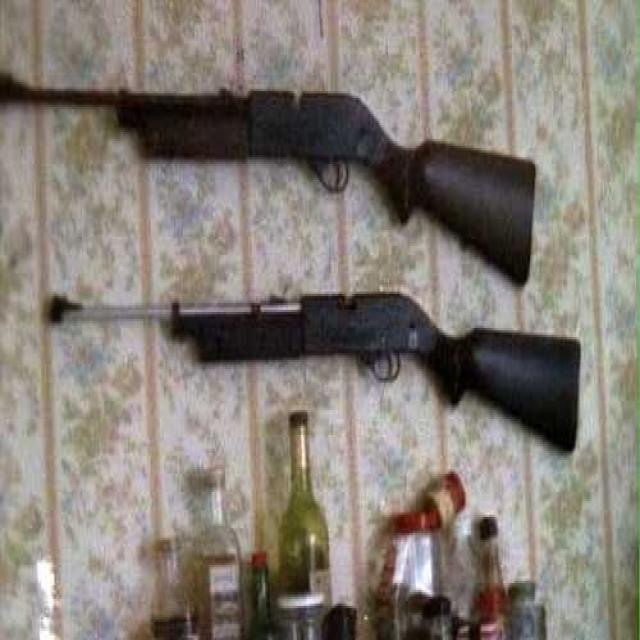heavyweapon: (1, 19, 545, 304), (40, 263, 603, 527)
